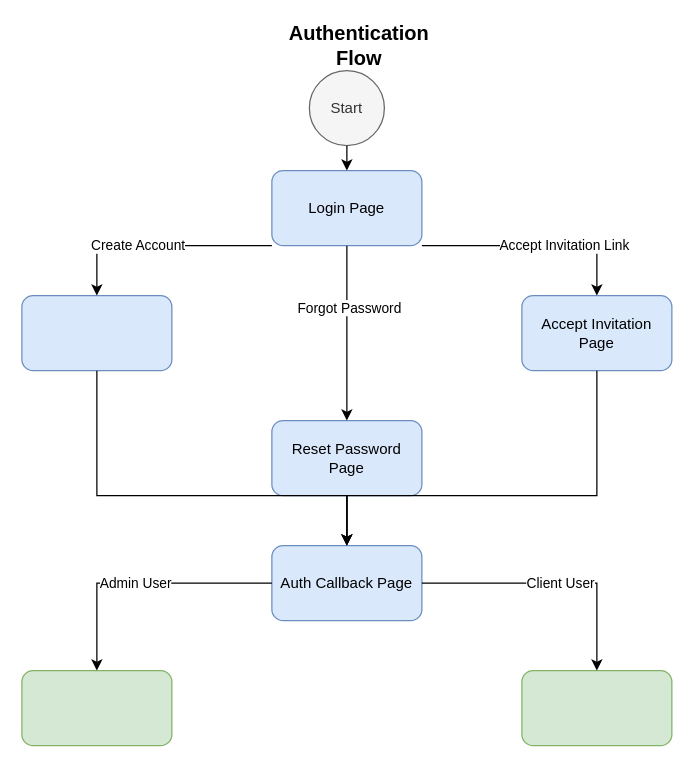
This 694x768 diagram has some shape labels left out. The box of each missing label's shape, as (x1, y1, x2, y2) in pixels:
Admin Dashboard: (21, 669, 172, 746)
Signup Page: (21, 294, 172, 371)
User Dashboard: (521, 669, 672, 746)
